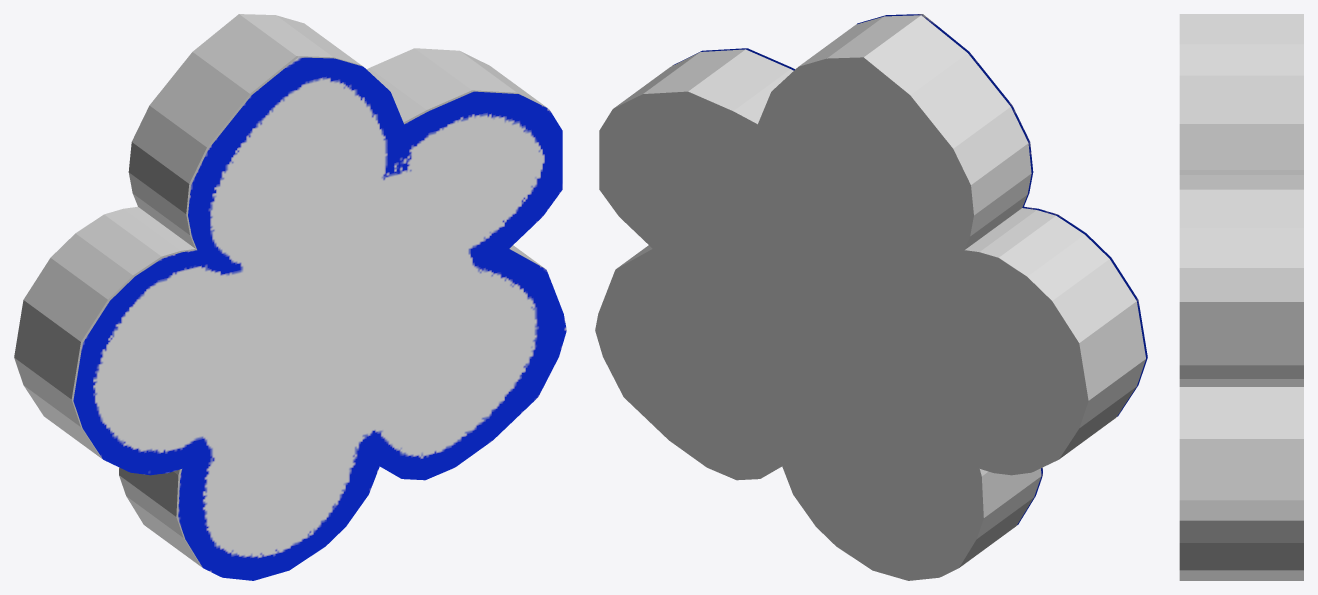
3 renders of one model, left to right at view 1: azimuth 30°, elevation 25°; view 2: azimuth 150°, elevation 25°; view 3: azimuth 270°, elevation 25°, orthographic. The views are drawn at different scales.
Parts seen in each view (by area): view 1: In_1_1, In_1_0; view 2: In_1_0, In_1_1; view 3: In_1_0.
Part boxes in pixels (x1,y1,x2,y2): In_1_1: (73, 57, 566, 580); In_1_0: (14, 14, 547, 567); In_1_0: (595, 15, 1145, 580); In_1_1: (672, 14, 1147, 525); In_1_0: (1179, 14, 1303, 580).
Bounding box in the file's own units: 2.47 × 2.46 × 0.515.
2 materials, 1 textured.
